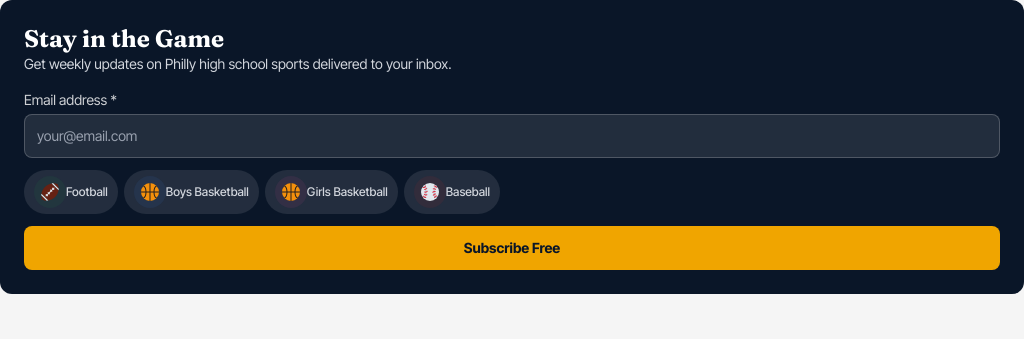
NewsletterSignup › shows error message on duplicate email
Step 1. Type "test@example.com" into the field with placeholder "your@email.com" → (512, 136), box [24,114,1000,158]
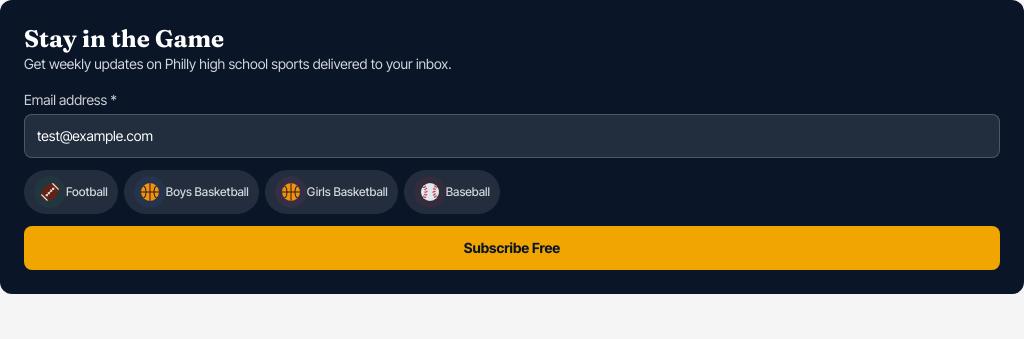
Step 2. Click the button "Subscribe Free" → (512, 248), box [24,226,1000,270]
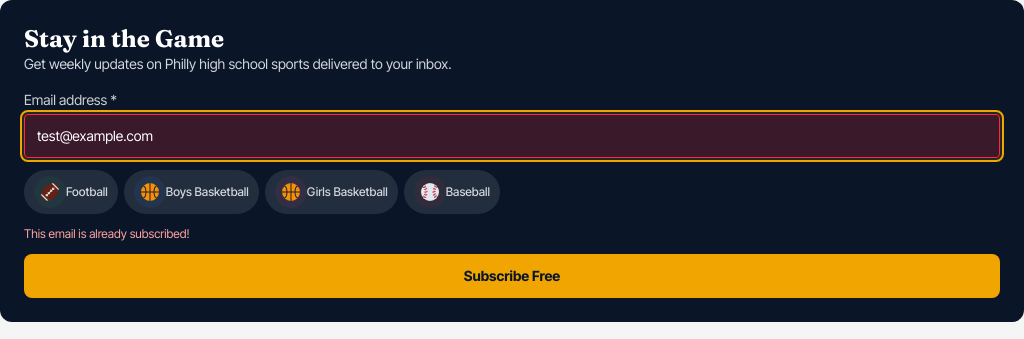
Now the text "This email is already subscribed!" is shown, box [24,226,189,241]
